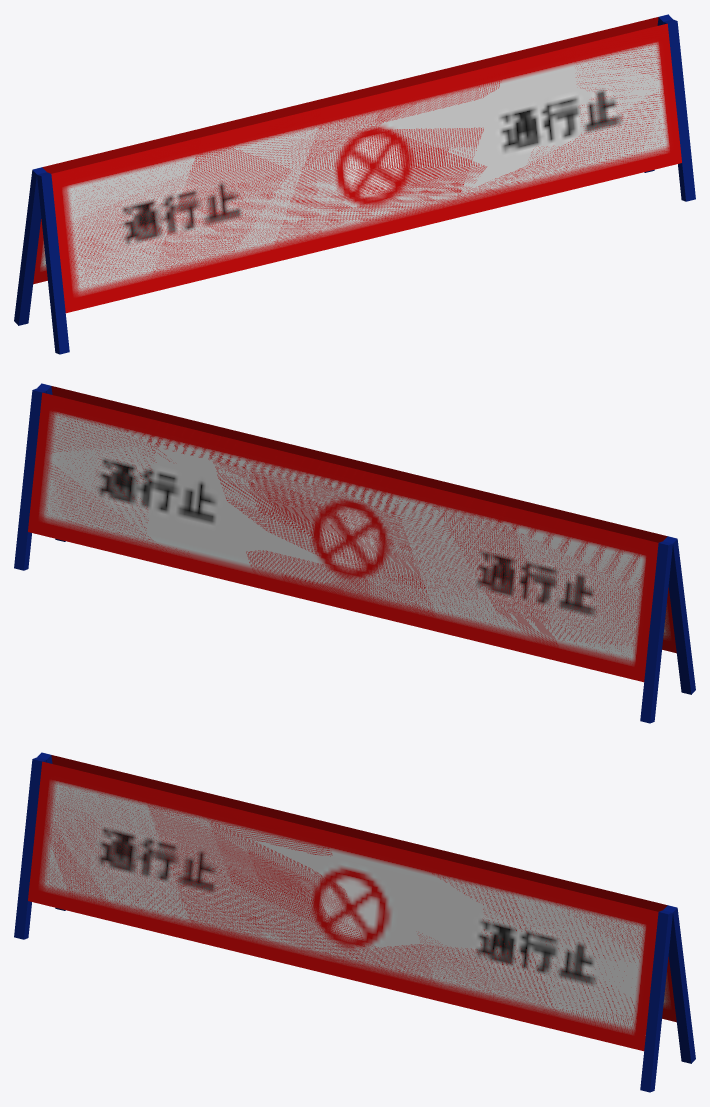
The model's file is Prop_Roadblock_B.fbx.
The picture shows the model from 3 angles, top to bottom: view 1: azimuth 30°, elevation 25°; view 2: azimuth 150°, elevation 25°; view 3: azimuth 330°, elevation 25°; orthographic projection.
Parts seen in each view (by area): view 1: Prop_Roadblock_B; view 2: Prop_Roadblock_B; view 3: Prop_Roadblock_B.
Boxes of the visible parts, x1,y1,x2,y2 form: Prop_Roadblock_B: [14, 14, 695, 354]; Prop_Roadblock_B: [14, 383, 695, 723]; Prop_Roadblock_B: [14, 752, 695, 1092].
Size of the model in its own units: 400 by 100 by 50.
